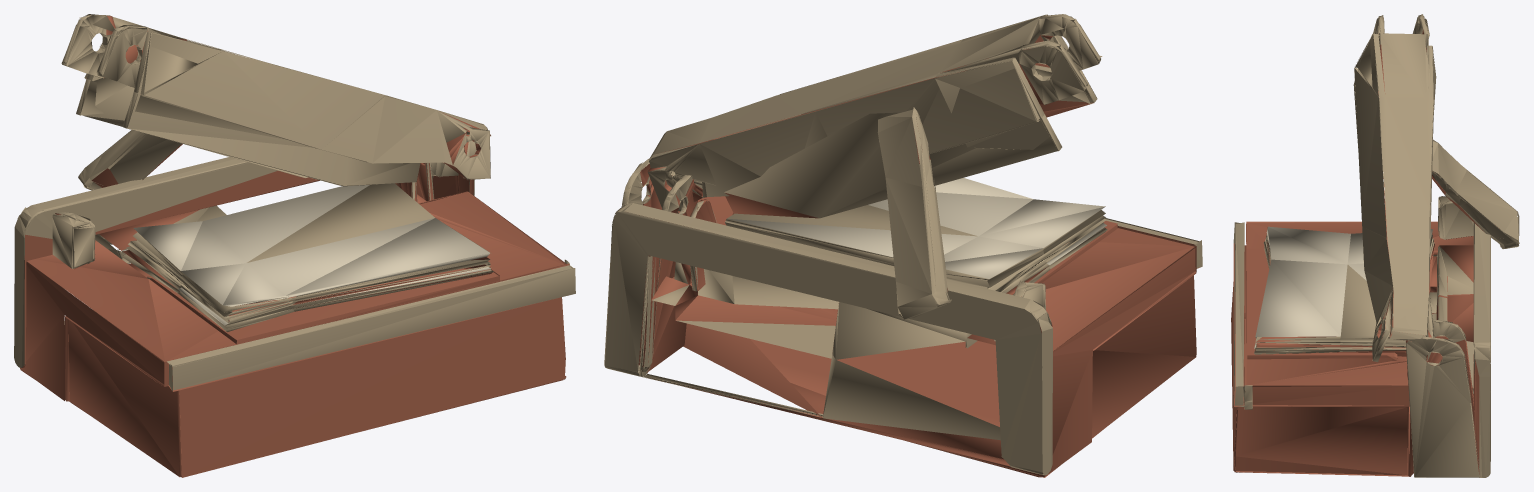
The model's file is fabrication-paper-cutter.glb.
3 renders of one model, left to right at view 1: azimuth 30°, elevation 25°; view 2: azimuth 150°, elevation 25°; view 3: azimuth 270°, elevation 25°, orthographic. The views are drawn at different scales.
Parts seen in each view (by area): view 1: paper-room-decoration; view 2: paper-room-decoration; view 3: paper-room-decoration.
Boxes of the visible parts, x1,y1,x2,y2 form: paper-room-decoration: (14, 14, 575, 477); paper-room-decoration: (604, 14, 1202, 477); paper-room-decoration: (1231, 14, 1519, 477).
Bounding box in the file's own units: 1.05 × 0.9155 × 0.76.
